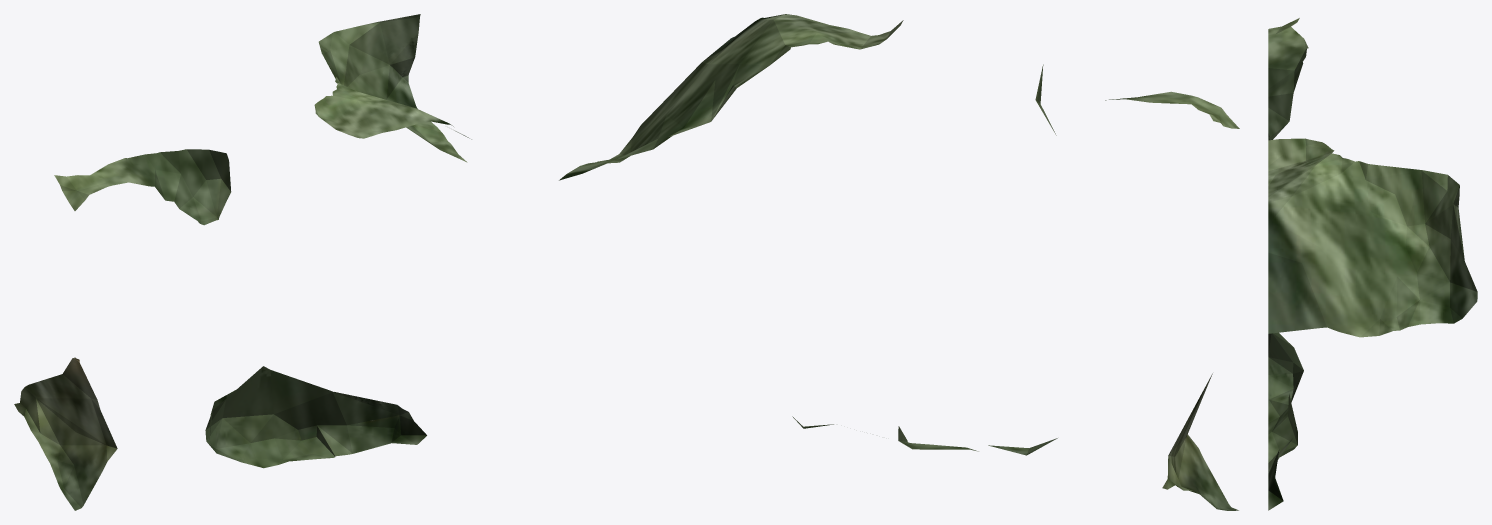
The picture shows the model from 3 angles, left to right: view 1: azimuth 30°, elevation 25°; view 2: azimuth 150°, elevation 25°; view 3: azimuth 270°, elevation 25°; orthographic projection. The views are drawn at different scales.
Bounding box in the file's own units: 2.95 × 2.17 × 1.24.
Materials: 1 (1 with a texture image).
